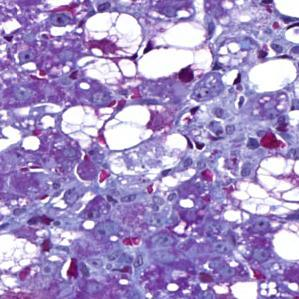ballooning: (59, 101, 156, 153), (230, 156, 296, 221), (83, 9, 145, 61), (4, 230, 43, 278)
